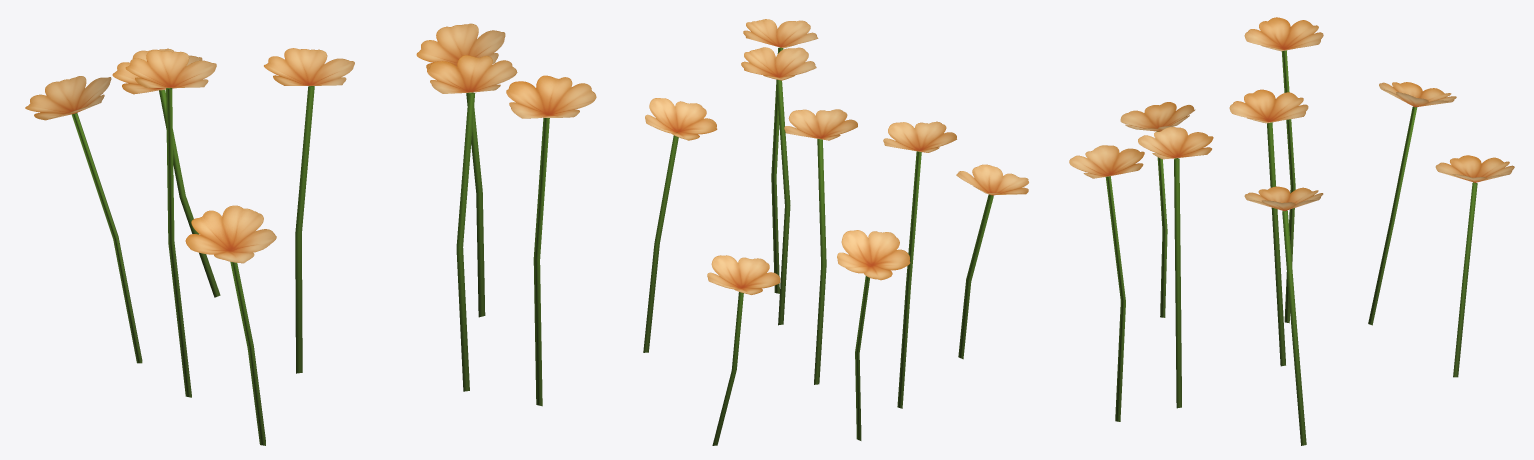
3 views of the same model, side by side, from view 1: azimuth 30°, elevation 25°; view 2: azimuth 150°, elevation 25°; view 3: azimuth 270°, elevation 25° (orthographic). The views are drawn at different scales.
Visible parts, largest first — view 1: pl-flowers-white; view 2: pl-flowers-white; view 3: pl-flowers-white.
Boxes of the visible parts, x1,y1,x2,y2 form: pl-flowers-white: (25,23,596,445); pl-flowers-white: (643,19,1028,445); pl-flowers-white: (1069,17,1514,445).
Size of the model in its own units: 0.7007 by 0.5655 by 0.8204.
1 material, 1 textured.
